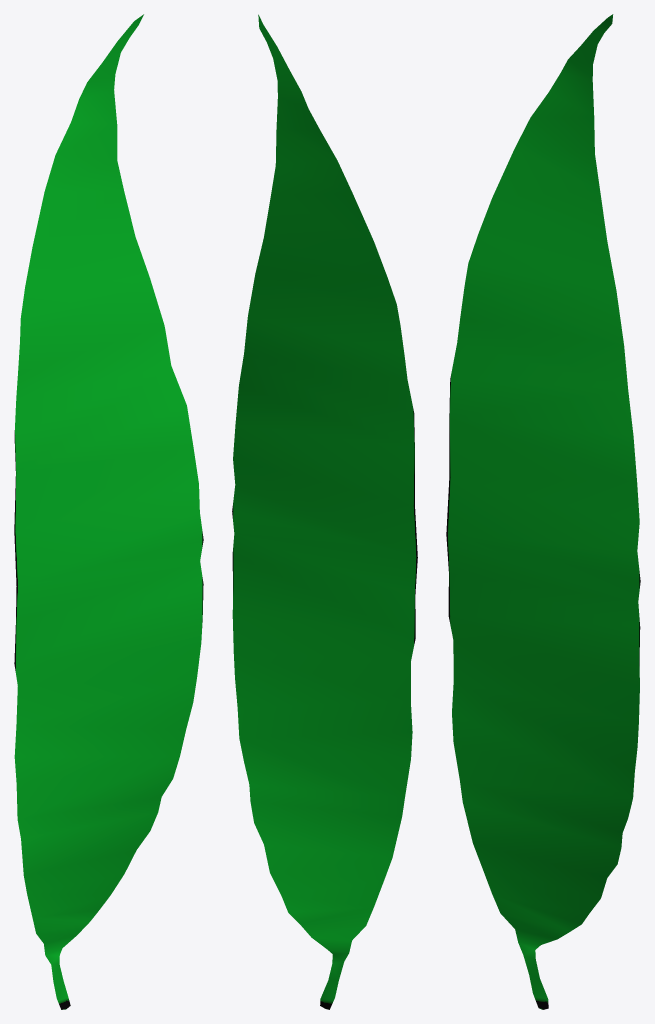
File: WaxWorld_Leaf_3.fbx
3 renders of one model, left to right at view 1: azimuth 30°, elevation 25°; view 2: azimuth 150°, elevation 25°; view 3: azimuth 330°, elevation 25°, orthographic. The views are drawn at different scales.
Visible parts, largest first — view 1: Line001; view 2: Line001; view 3: Line001.
Boxes of the visible parts, box(x1,y1,x2,y2) form: Line001: box(14, 14, 203, 1009); Line001: box(232, 14, 417, 1009); Line001: box(446, 14, 640, 1009).
Size of the model in its own units: 40.68 by 204 by 8.96.
1 material, 1 textured.
